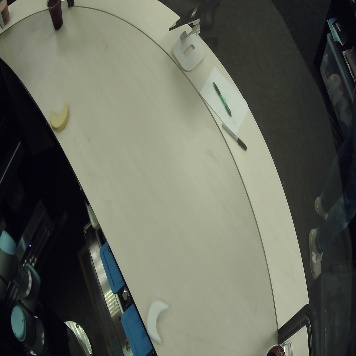full_cup: (45, 1, 68, 29), (1, 1, 16, 26)
puck: (141, 294, 174, 347), (45, 101, 74, 133)
